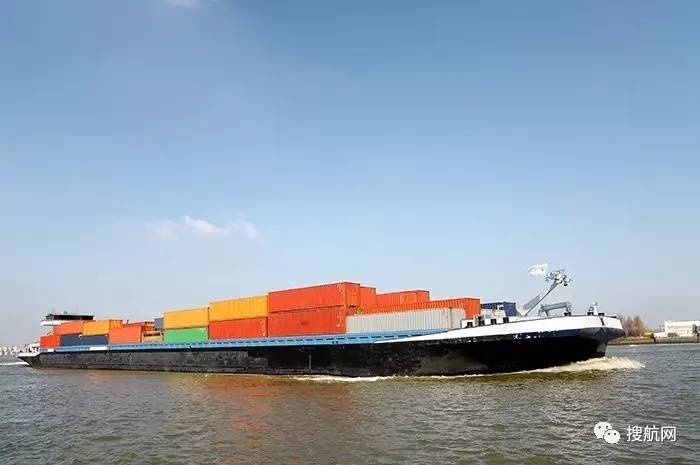Cargoship: (14, 260, 628, 373)
